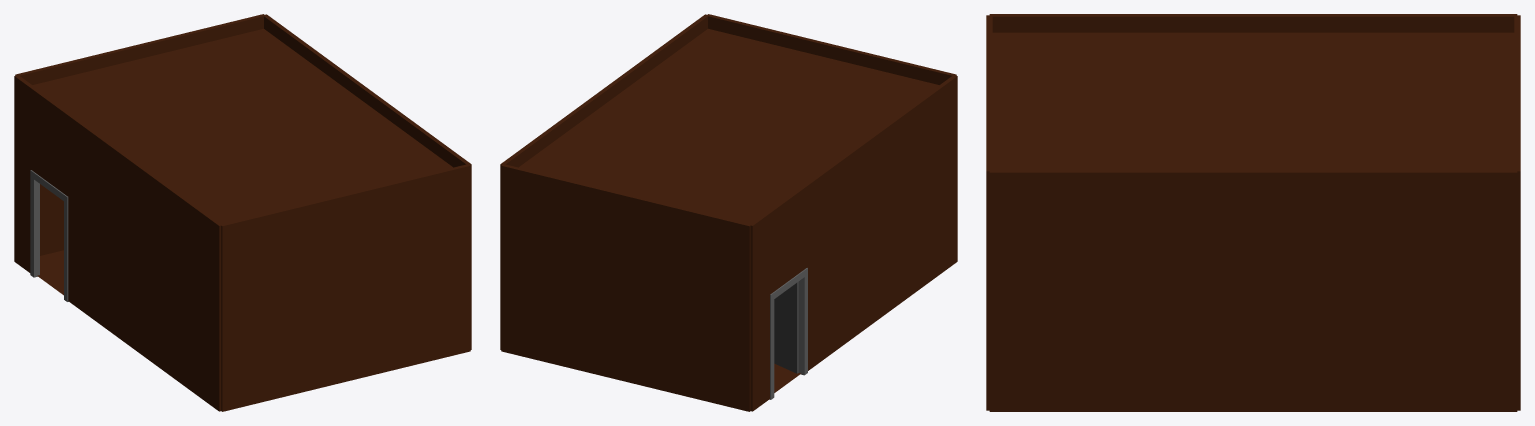
File: game_room_empty.glb
3 renders of one model, left to right at view 1: azimuth 30°, elevation 25°; view 2: azimuth 150°, elevation 25°; view 3: azimuth 270°, elevation 25°, orthographic. The views are drawn at different scales.
Visible parts, largest first — view 1: Cube.002, Plane.001, Cube, Cube.001, Cube.003, Cube.004, Plane.002; view 2: Cube.001, Plane.001, Cube, Cube.003, Cube.002, Cylinder.001, Cube.004; view 3: Cube.003, Plane.001, Cube, Cube.001, Cube.002.
Part boxes in pixels (x1,y1,x2,y2): Cube.002: (220,164,470,411); Plane.001: (32,28,452,223); Cube: (14,75,222,411); Cube.001: (15,14,265,255); Cube.003: (263,14,471,349); Cube.004: (30,170,68,301); Plane.002: (37,250,63,295); Cube.001: (501,164,751,411); Plane.001: (519,28,939,223); Cube: (749,75,957,411); Cube.003: (500,14,707,349); Cube.002: (706,14,956,84); Cylinder.001: (774,281,798,373); Cube.004: (769,268,807,399); Cube.003: (989,170,1517,411); Plane.001: (992,32,1514,170); Cube: (989,14,1517,32); Cube.001: (1514,15,1520,410); Cube.002: (986,15,992,410).
Size of the model in its own units: 14.29 by 10.04 by 20.23.
